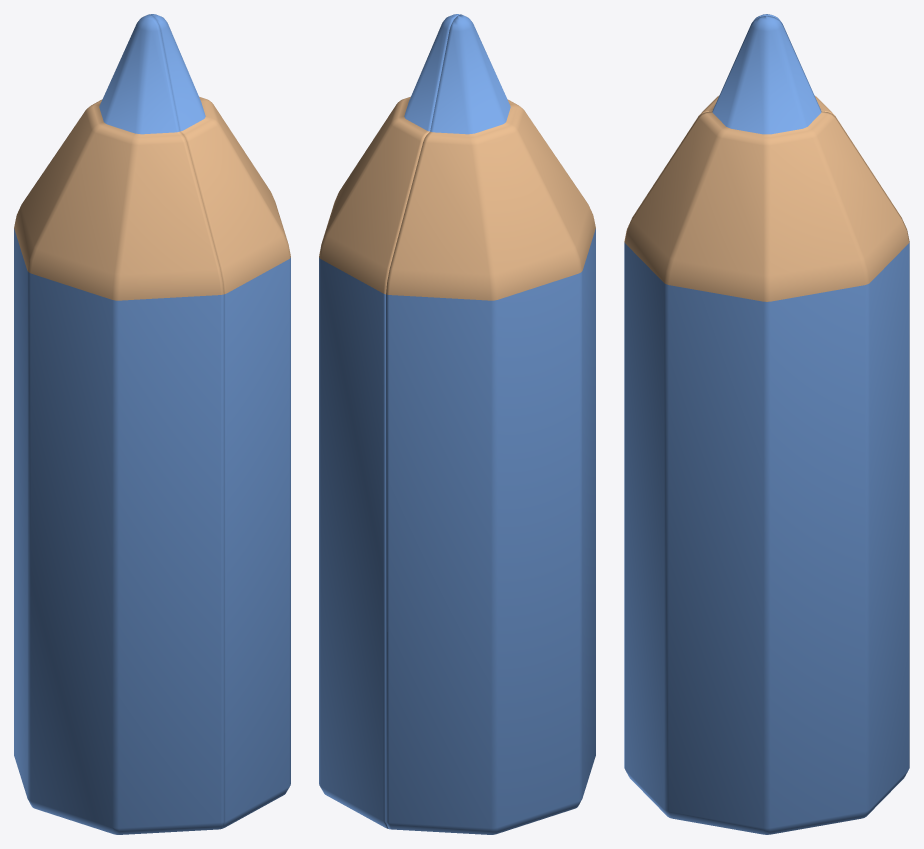
File: SM_Pencil_01a.fbx
The picture shows the model from 3 angles, left to right: view 1: azimuth 30°, elevation 25°; view 2: azimuth 150°, elevation 25°; view 3: azimuth 270°, elevation 25°; orthographic projection.
Visible parts, largest first — view 1: Pencil_01, Pencil_02; view 2: Pencil_01, Pencil_02; view 3: Pencil_02.
Part boxes in pixels (x1,y1,x2,y2): Pencil_01: (14, 14, 223, 834); Pencil_02: (149, 14, 290, 828); Pencil_01: (386, 14, 595, 834); Pencil_02: (319, 14, 460, 828); Pencil_02: (624, 16, 909, 834).
Size of the model in its own units: 11.16 by 32.98 by 11.16.
